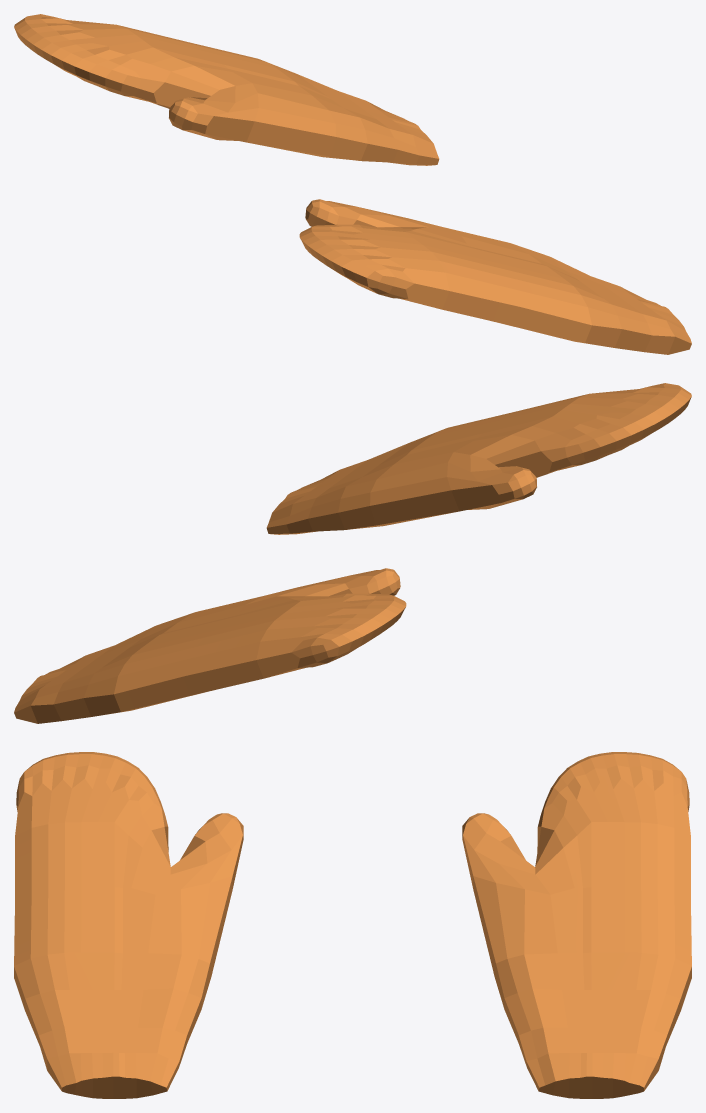
File: manos nuevo.fbx
3 renders of one model, top to bottom at view 1: azimuth 30°, elevation 25°; view 2: azimuth 150°, elevation 25°; view 3: azimuth 270°, elevation 25°, orthographic. The views are drawn at different scales.
Parts seen in each view (by area): view 1: manos; view 2: manos; view 3: manos.
Part boxes in pixels (<box>): manos: <box>14,14,691,354</box>; manos: <box>14,383,691,723</box>; manos: <box>14,752,691,1098</box>.
Bounding box in the file's own units: 41.05 × 20.65 × 68.61.
